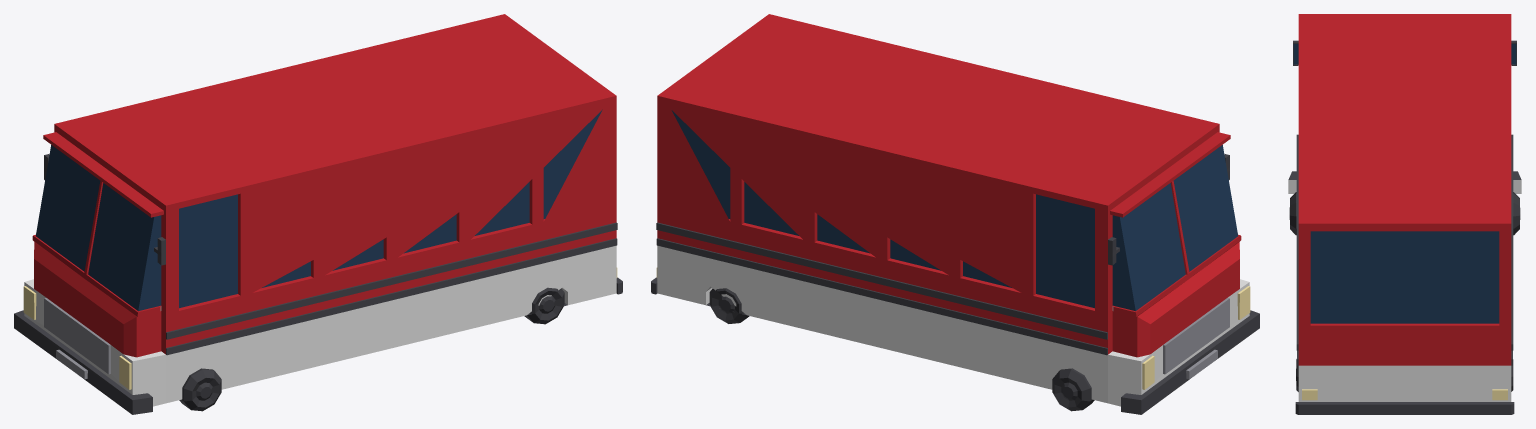
The model's file is transport-Bus.glb.
3 views of the same model, side by side, from view 1: azimuth 30°, elevation 25°; view 2: azimuth 150°, elevation 25°; view 3: azimuth 270°, elevation 25° (orthographic). The views are drawn at different scales.
Parts seen in each view (by area): view 1: Top, Bottom, Windows, Bumper, Details, Material, Lights; view 2: Top, Bottom, Windows, Bumper, Details, Material, Lights; view 3: Top, Windows, Bottom, Bumper, Material, Lights.
Boxes of the visible parts, <box> form: Top: <box>32,14,616,357</box>; Bottom: <box>24,245,616,406</box>; Windows: <box>35,110,602,311</box>; Bumper: <box>14,154,622,414</box>; Details: <box>44,298,110,379</box>; Material: <box>179,287,564,411</box>; Lights: <box>23,267,617,389</box>; Top: <box>657,14,1241,357</box>; Bottom: <box>657,245,1249,406</box>; Windows: <box>671,110,1238,311</box>; Bumper: <box>651,154,1259,414</box>; Details: <box>1163,298,1229,379</box>; Material: <box>709,288,1094,411</box>; Lights: <box>656,267,1250,389</box>; Top: <box>1298,14,1511,365</box>; Windows: <box>1293,44,1516,323</box>; Bottom: <box>1288,180,1521,401</box>; Bumper: <box>1288,40,1521,414</box>; Material: <box>1289,192,1520,391</box>; Lights: <box>1302,389,1507,400</box>.
Size of the model in its own units: 4.09 by 1.68 by 1.74.
